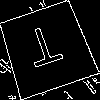T: (22, 24, 68, 77)
